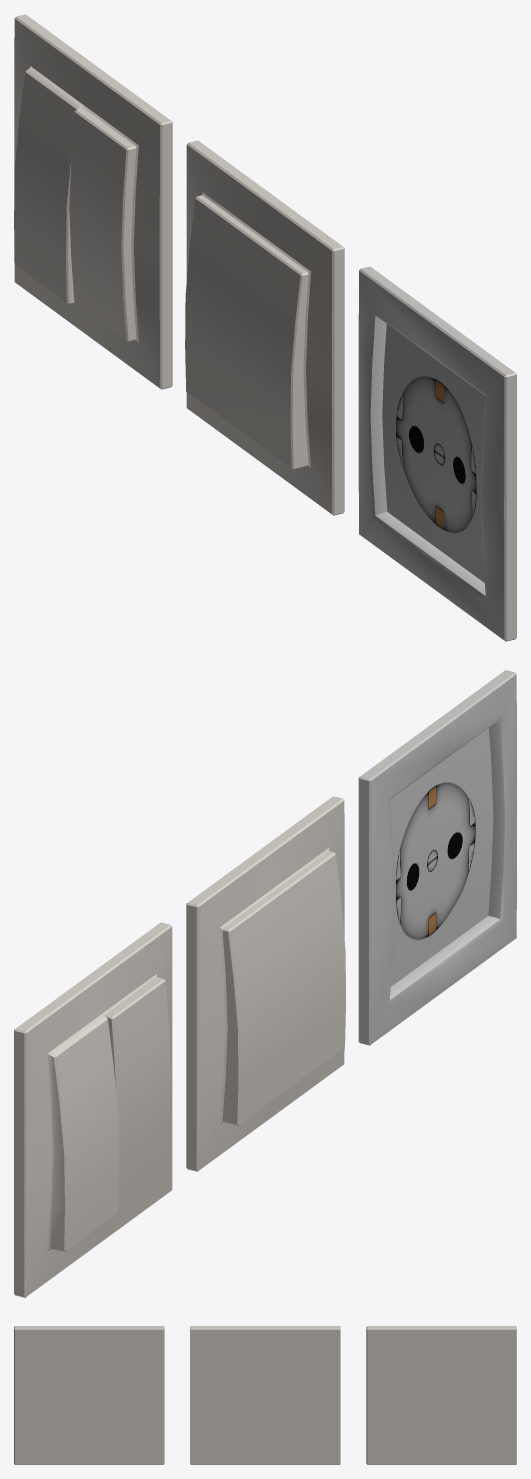
File: SM_PortsS2.fbx
3 renders of one model, top to bottom at view 1: azimuth 30°, elevation 25°; view 2: azimuth 150°, elevation 25°; view 3: azimuth 270°, elevation 25°, orthographic. The views are drawn at different scales.
Visible parts, largest first — view 1: SM_PortsS2_LOD0; view 2: SM_PortsS2_LOD0; view 3: SM_PortsS2_LOD0.
Boxes of the visible parts, x1,y1,x2,y2 form: SM_PortsS2_LOD0: (14, 14, 516, 641); SM_PortsS2_LOD0: (14, 670, 516, 1297); SM_PortsS2_LOD0: (14, 1326, 516, 1464).
Size of the model in its own units: 1.69 by 41.95 by 12.55.
1 material, 1 textured.
